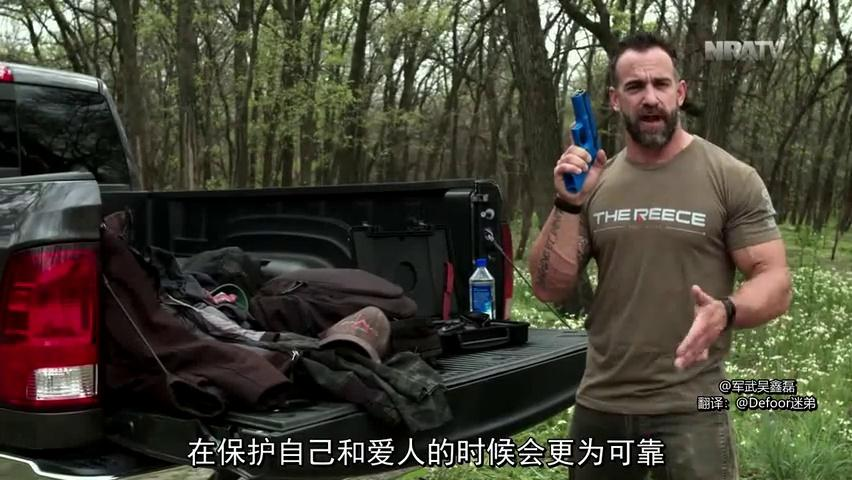gun: (528, 71, 611, 210)
